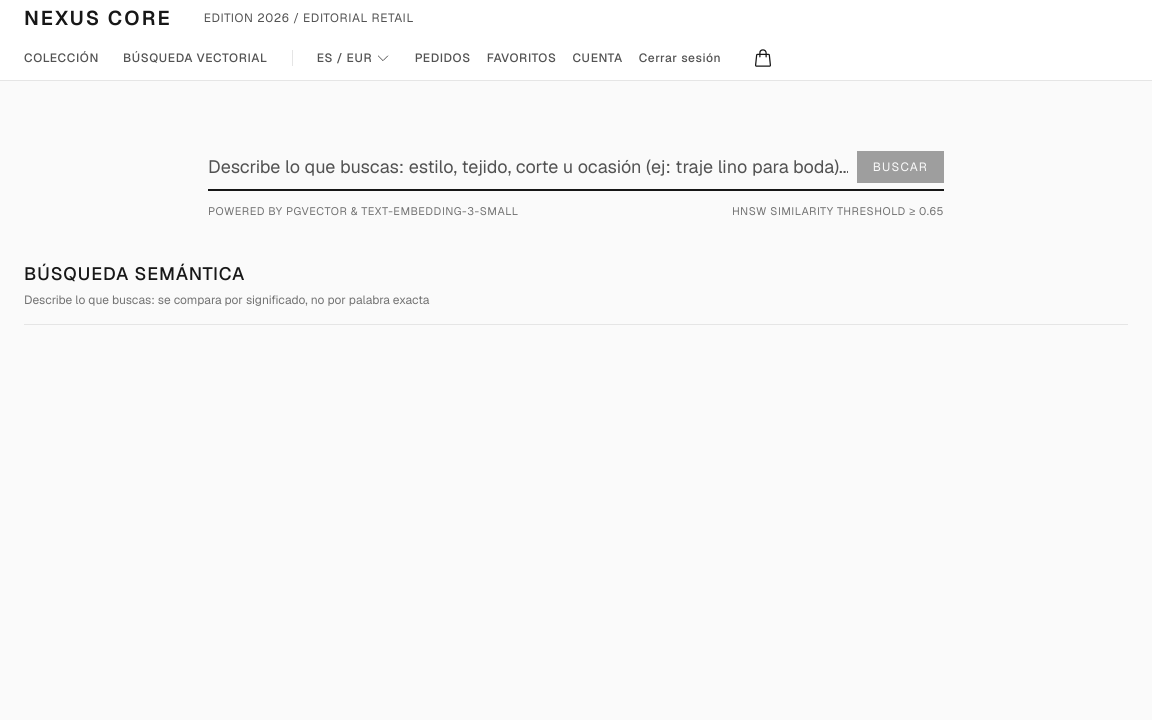
SearchPage (búsqueda semántica) › R3 — en modo TEXT el subtítulo no promete proximidad y muestra la nota discreta
Type "lana" into the field with placeholder "Describe lo que buscas" at (576, 167), box [208,153,944,181]
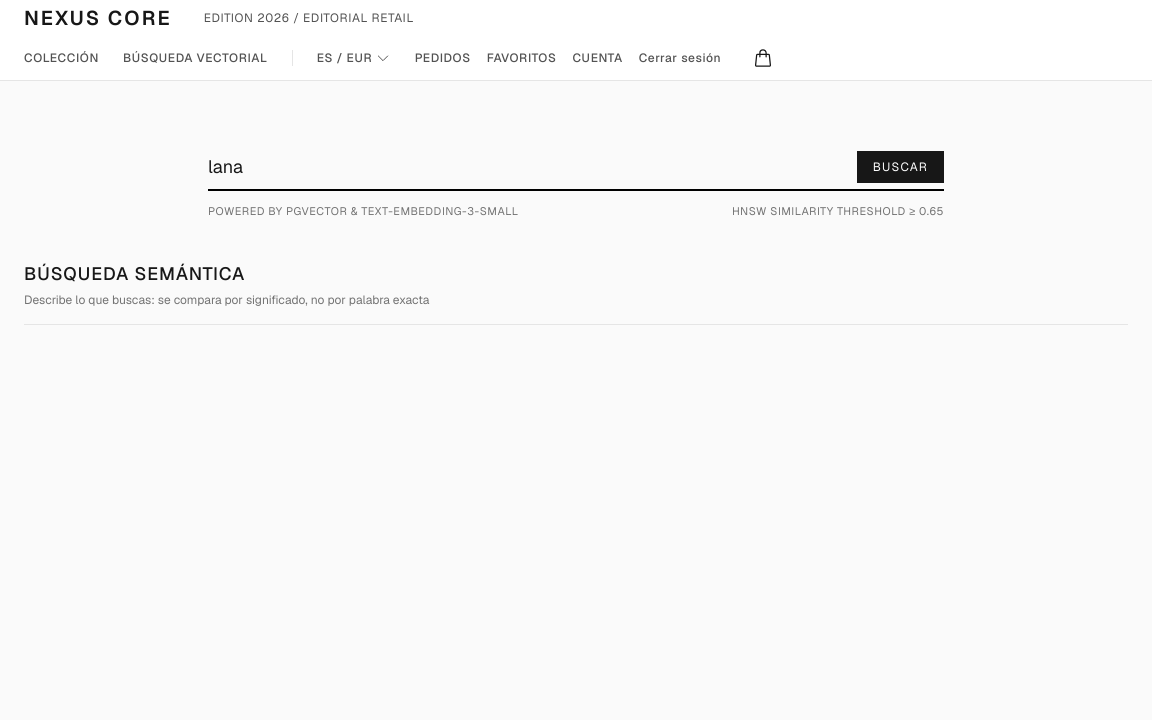
Click the button "Buscar" at (900, 167), box [857,151,944,183]
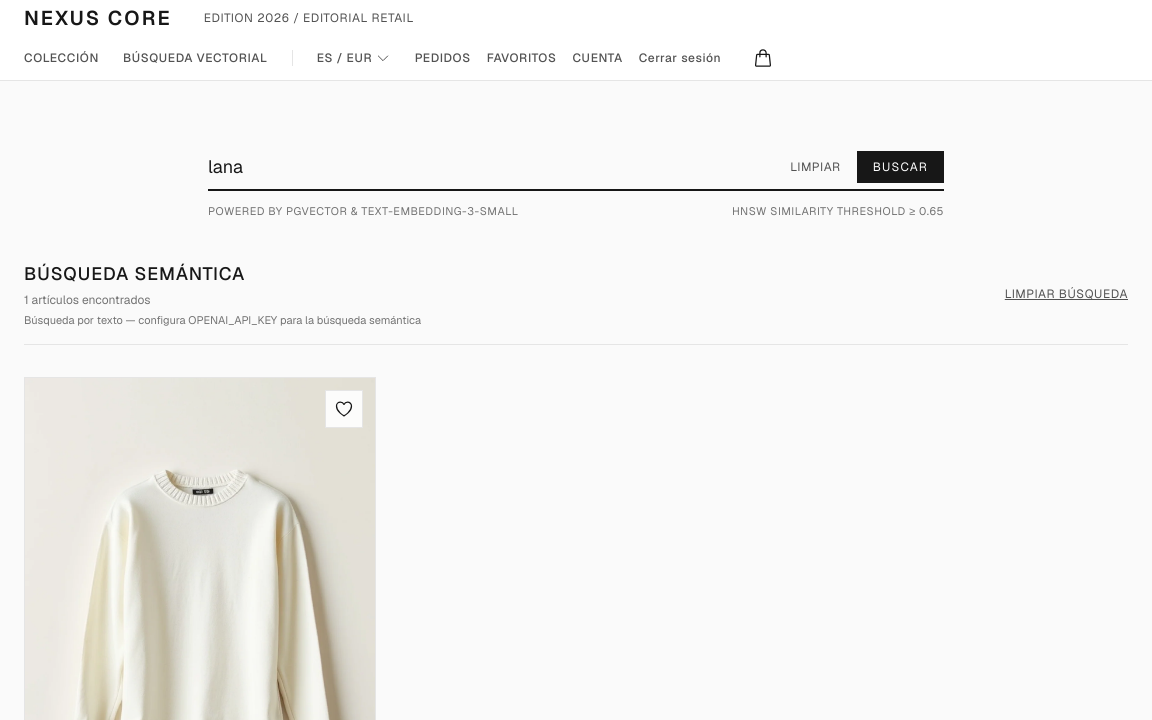
Check: the text "1 artículos encontrados" is shown, box [24,292,150,308]
Check: the text "Búsqueda por texto — configura OPENAI_API_KEY para la búsqueda semántica" is shown, box [24,312,421,328]
